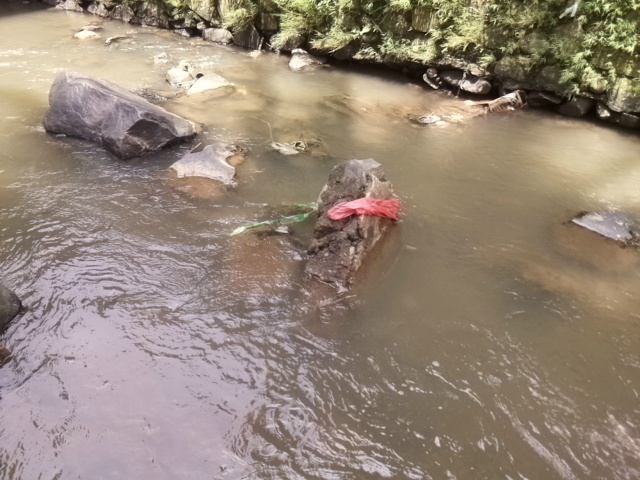Sampah_Plastik: (324, 194, 407, 225)
